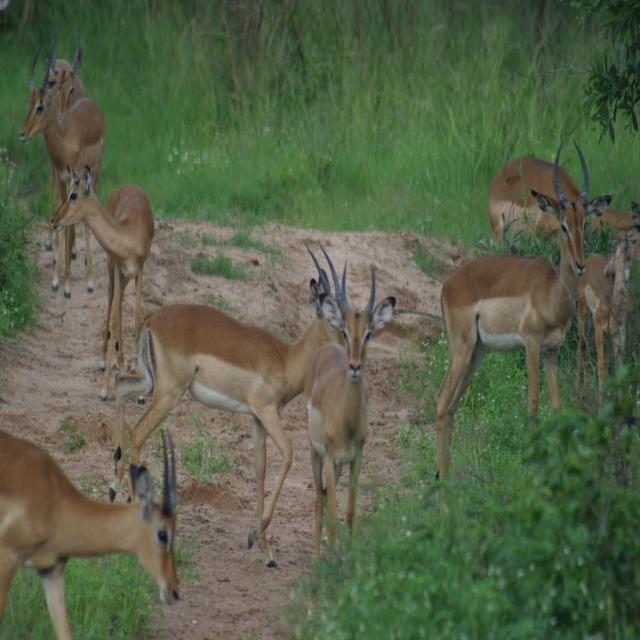Deer: (108, 270, 344, 570), (433, 136, 612, 513), (0, 425, 179, 638), (302, 260, 395, 622), (51, 163, 153, 402), (19, 20, 106, 299), (487, 155, 640, 249), (577, 225, 639, 418), (43, 18, 83, 264)
